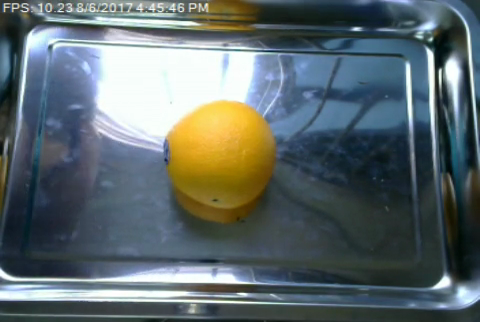Orange: (163, 100, 279, 208)
